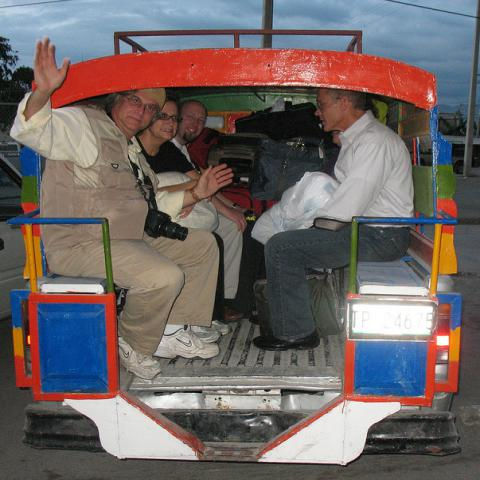bus: (12, 32, 460, 466)
car: (1, 150, 27, 321), (410, 147, 464, 174)
